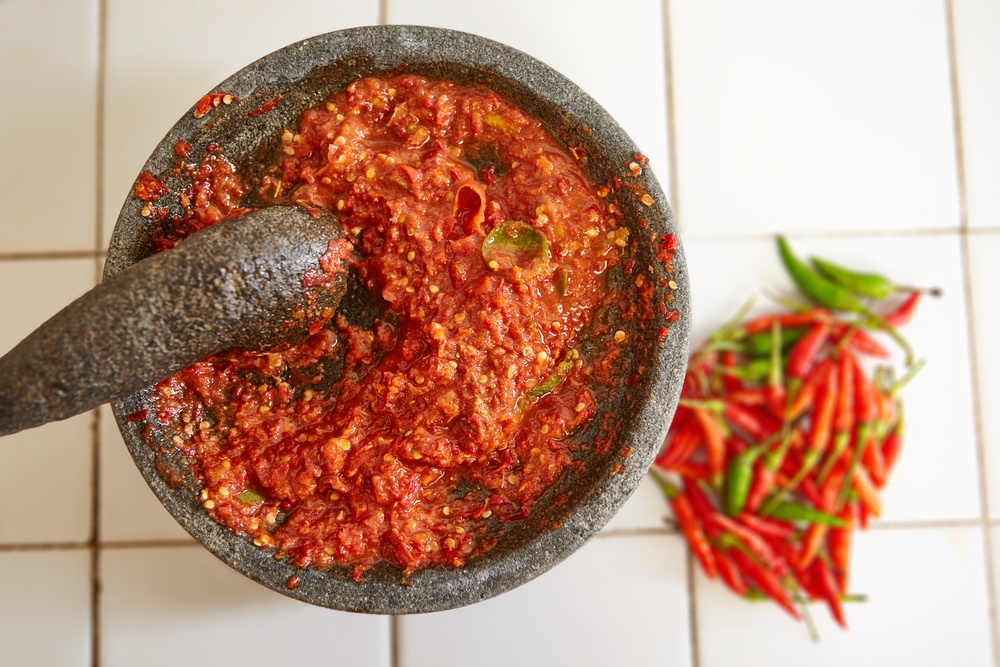sambal: (176, 70, 613, 585)
